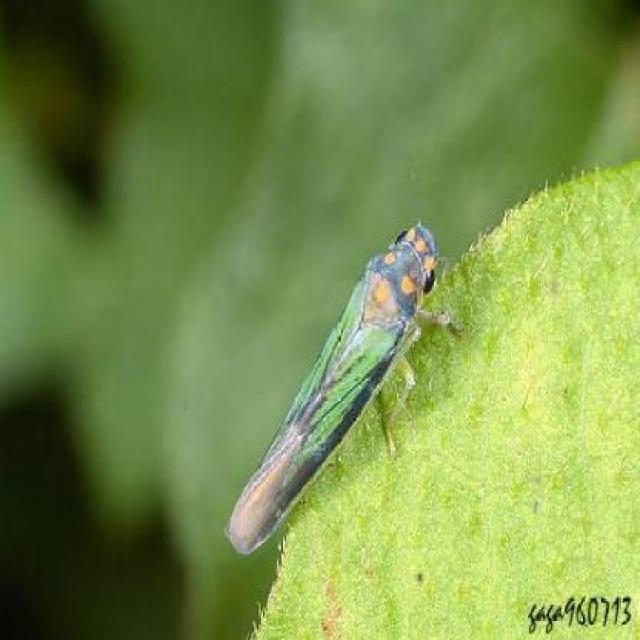green-leafhopper: (225, 212, 449, 565)
